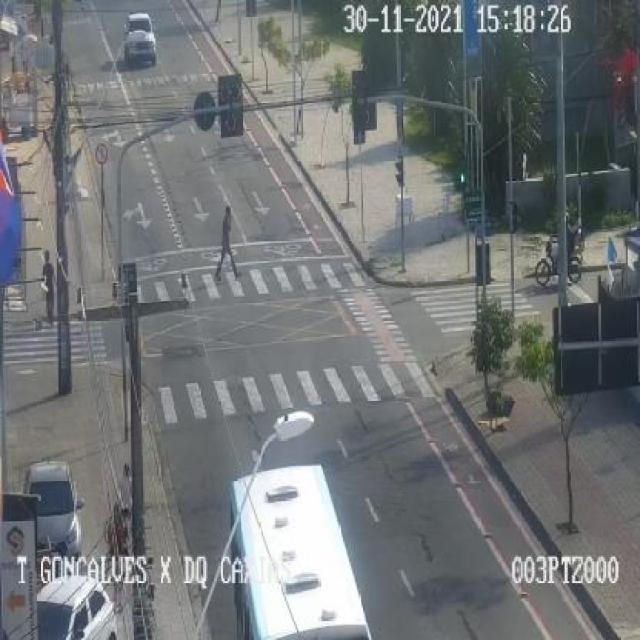Bus: (230, 444, 367, 640)
Car: (26, 458, 94, 564), (19, 582, 115, 639), (117, 15, 163, 84)
Cycle: (526, 239, 590, 287)
